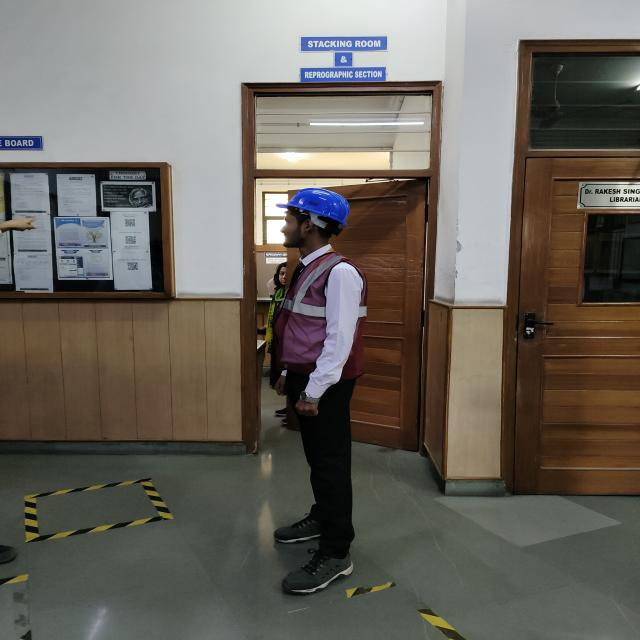safe: (272, 188, 367, 593)
